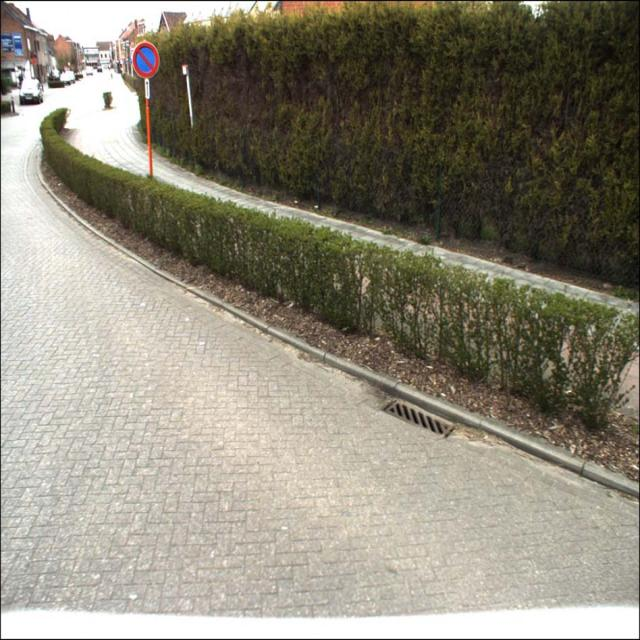parkyasak: (132, 42, 160, 78)
